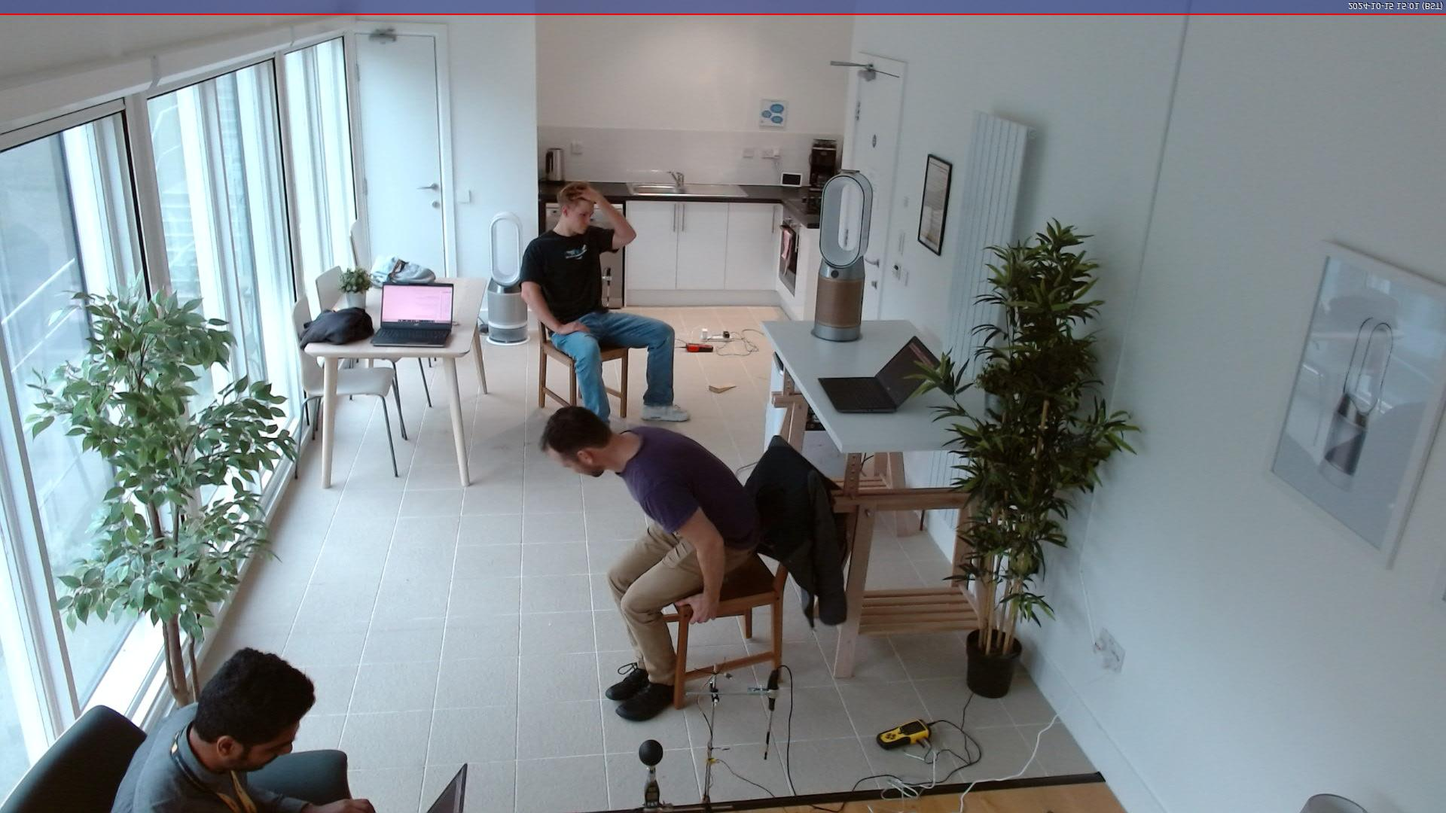long sleeve shirt: (110, 699, 313, 813)
short sleeve shirt: (612, 427, 757, 554), (519, 221, 625, 334)
trousers: (606, 519, 753, 686), (550, 303, 678, 437)
